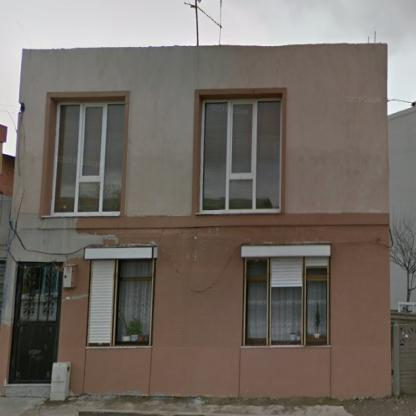door: (7, 261, 60, 383)
window: (200, 96, 280, 212), (50, 100, 124, 216), (242, 256, 328, 346), (87, 260, 154, 346)
